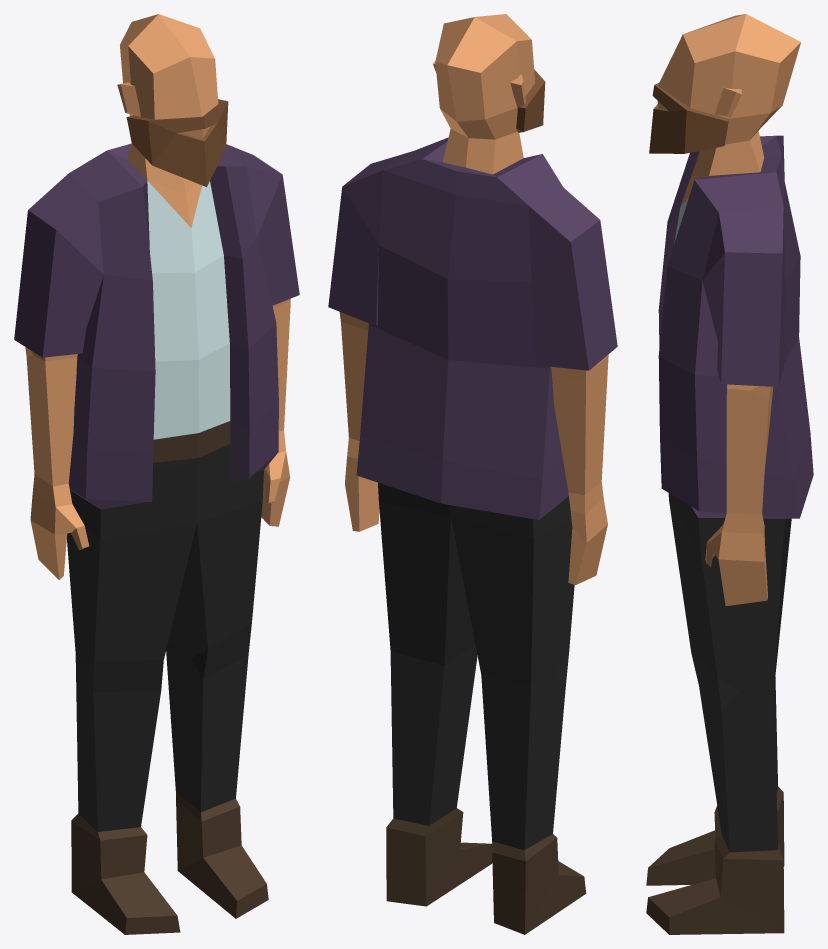
File: man-pedestrian-rival.glb
3 renders of one model, left to right at view 1: azimuth 30°, elevation 25°; view 2: azimuth 150°, elevation 25°; view 3: azimuth 270°, elevation 25°, orthographic.
Parts seen in each view (by area): view 1: man-pedestrian-rival; view 2: man-pedestrian-rival; view 3: man-pedestrian-rival.
Boxes of the visible parts, x1=… form: man-pedestrian-rival: x1=14, y1=14, x2=299, y2=934; man-pedestrian-rival: x1=328, y1=14, x2=617, y2=934; man-pedestrian-rival: x1=646, y1=14, x2=813, y2=934.
Bounding box in the file's own units: 0.557 × 1.81 × 0.3102.
1 material, 1 textured.
